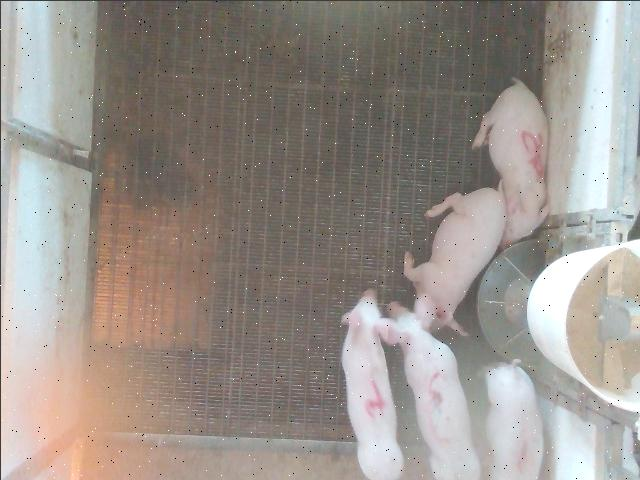pig-1: (485, 359, 542, 478)
pig-3: (386, 301, 479, 478)
pig-4: (341, 289, 402, 479)
pig-5: (471, 78, 549, 247)
